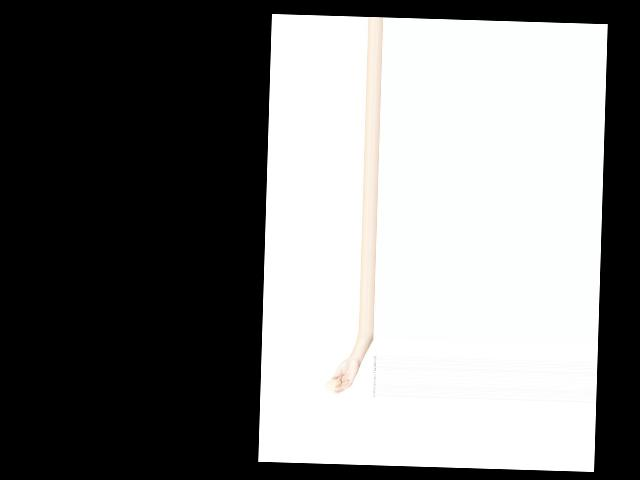egg: (324, 378, 342, 391)
